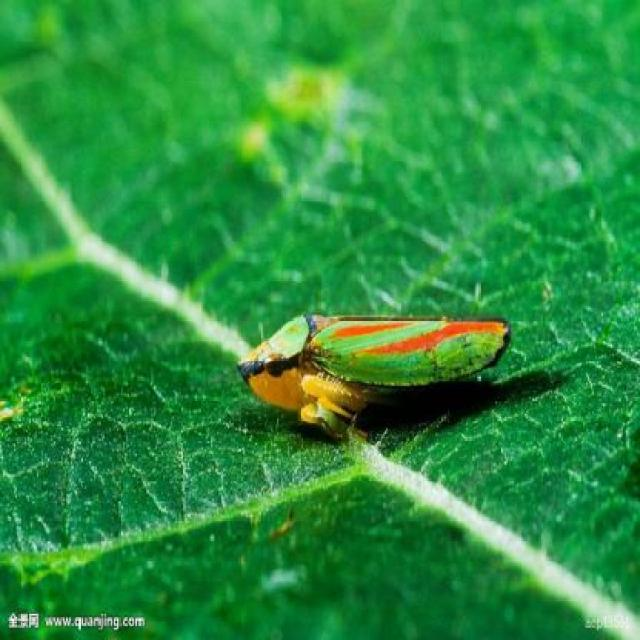green-leafhopper: (229, 297, 514, 420)
